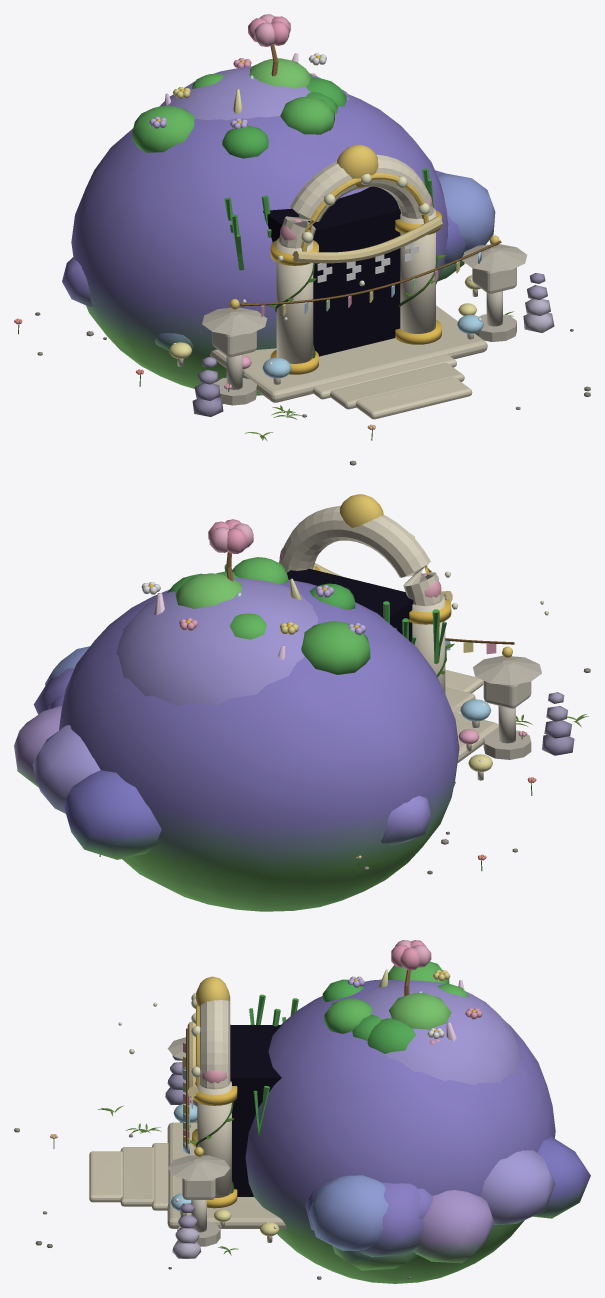
File: shrine_cave_lite.glb
The picture shows the model from 3 angles, top to bottom: view 1: azimuth 30°, elevation 25°; view 2: azimuth 150°, elevation 25°; view 3: azimuth 270°, elevation 25°; orthographic projection. The views are drawn at different scales.
Visible parts, largest first — view 1: Sphere; view 2: Sphere; view 3: Sphere.
Boxes of the visible parts, left/top/right/bottom form: Sphere: left=14, top=14, right=590, bottom=465; Sphere: left=14, top=494, right=590, bottom=911; Sphere: left=14, top=940, right=590, bottom=1283.
Size of the model in its own units: 12.43 by 9.21 by 14.71.
